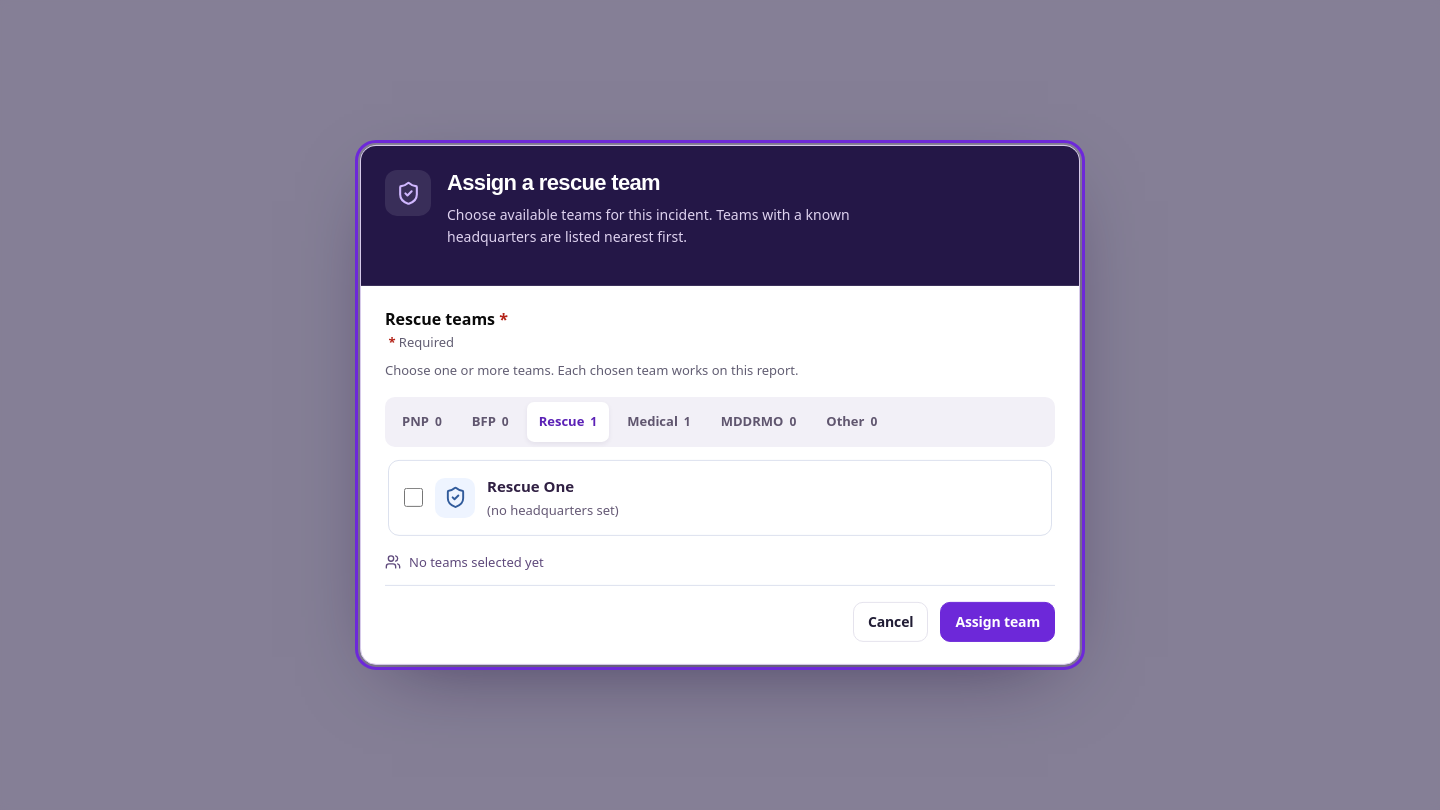
Test case: AssignTeamDialog › lists a Medical team under the Medical tab, not Rescue
Expected: the tab "Rescue1" is shown, [527,402,609,442]
Click the tab "Medical1" at [659, 422], box [615,402,703,442]
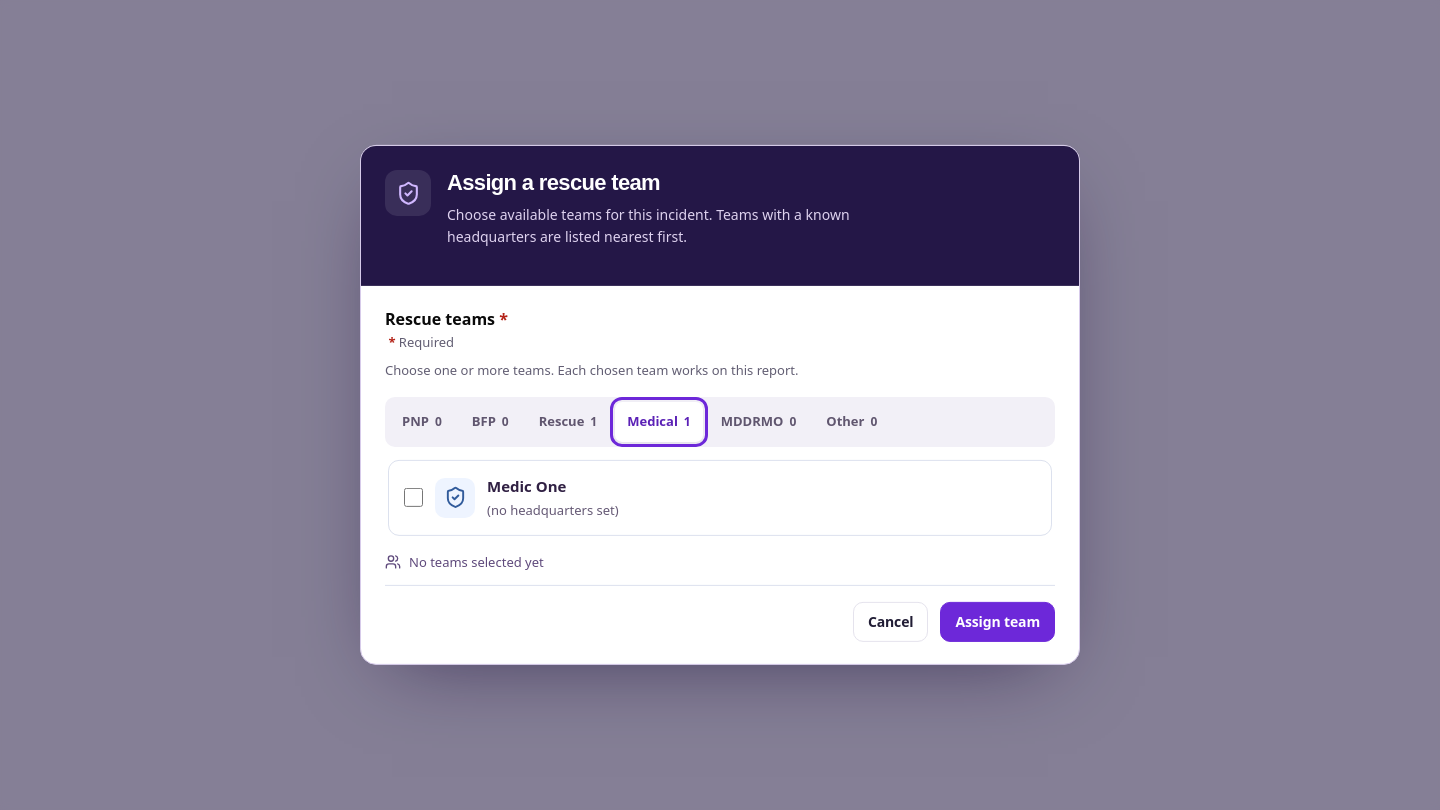
Expected: the checkbox labelled "Medic One (no headquarters set)" is shown, [404,488,423,507]
Expected: the text "Rescue One" is gone
